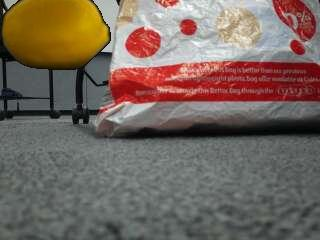lemon: (4, 0, 111, 68)
